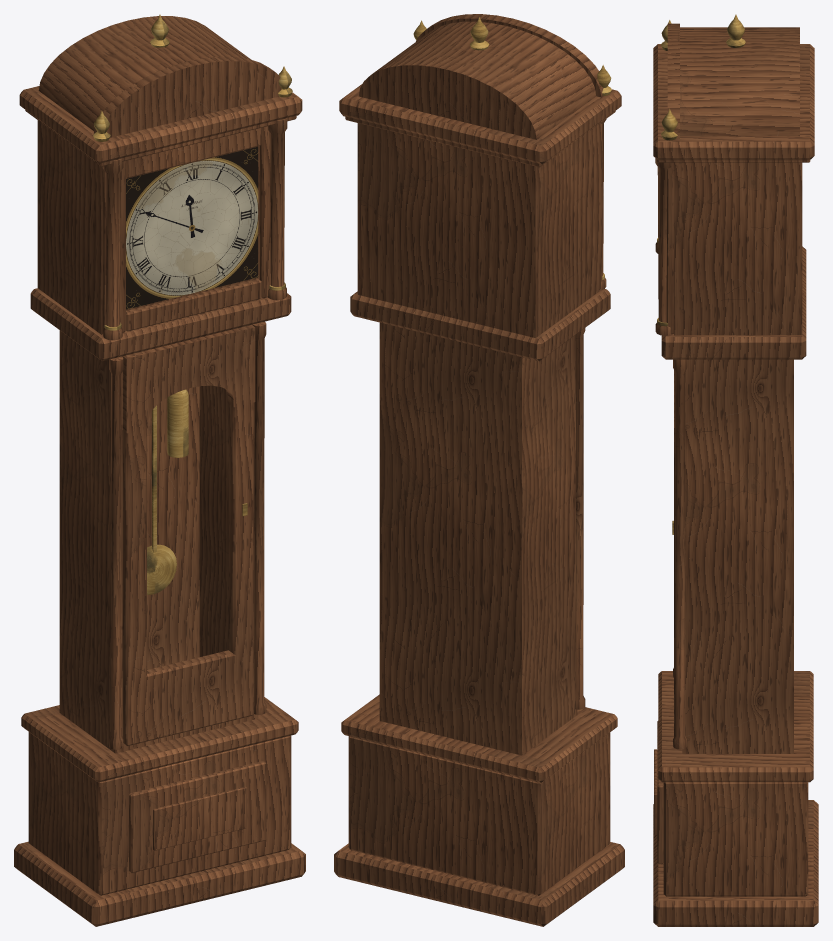
The model's file is lib_clock.obj.
3 renders of one model, left to right at view 1: azimuth 30°, elevation 25°; view 2: azimuth 150°, elevation 25°; view 3: azimuth 270°, elevation 25°, orthographic.
Parts seen in each view (by area): view 1: lib_clock_wood_dark, lib_clock_clock_face, lib_clock_brass; view 2: lib_clock_wood_dark, lib_clock_brass; view 3: lib_clock_wood_dark, lib_clock_brass.
Boxes of the visible parts, box(x1,y1,x2,y2) form: lib_clock_wood_dark: box(14, 16, 305, 926); lib_clock_clock_face: box(126, 146, 258, 309); lib_clock_brass: box(93, 14, 292, 594); lib_clock_wood_dark: box(334, 14, 624, 926); lib_clock_brass: box(413, 17, 611, 279); lib_clock_wood_dark: box(653, 23, 818, 926); lib_clock_brass: box(657, 14, 745, 534).
Size of the model in its own units: 0.6 by 2.3 by 0.4.
3 materials, 3 textured.
